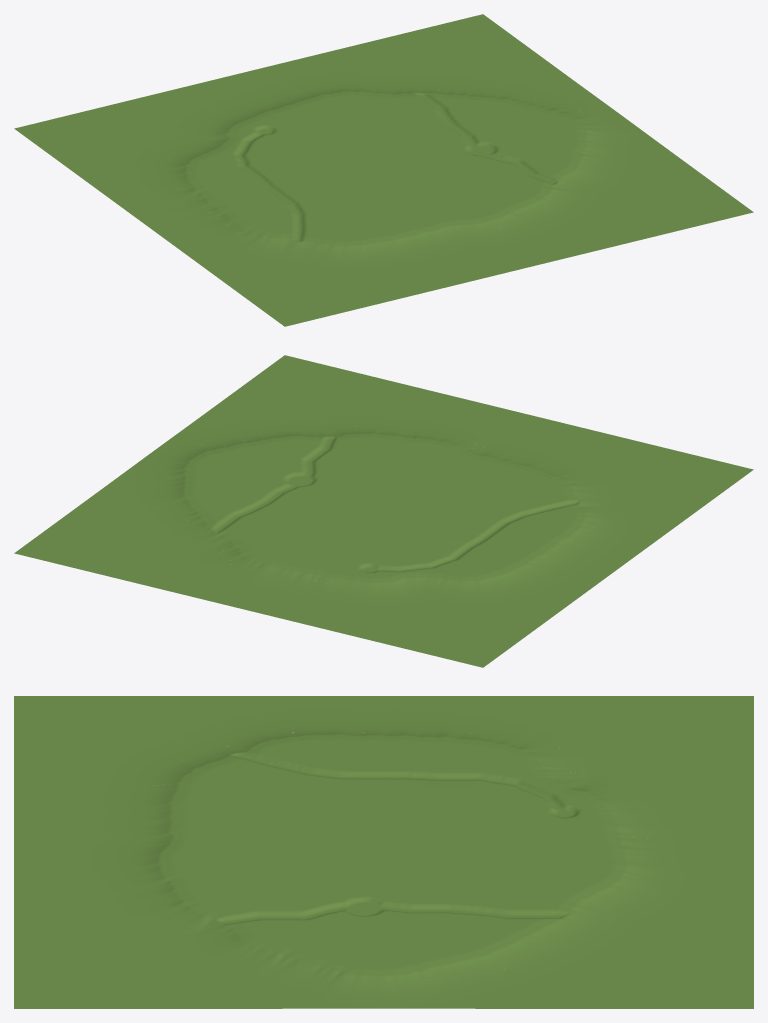
The model's file is terrain.glb.
3 renders of one model, top to bottom at view 1: azimuth 30°, elevation 25°; view 2: azimuth 150°, elevation 25°; view 3: azimuth 270°, elevation 25°, orthographic. The views are drawn at different scales.
Parts seen in each view (by area): view 1: Ground_2_1, Ground_2_0, Ground_1_0, Ground_2_2, Ground_1_1, Ground_0_0, Ground_1_2, Ground_0_2, Ground_0_1; view 2: Ground_0_1, Ground_0_0, Ground_1_0, Ground_0_2, Ground_1_1, Ground_2_0, Ground_1_2, Ground_2_2, Ground_2_1; view 3: Ground_1_2, Ground_0_2, Ground_2_2, Ground_1_1, Ground_2_1, Ground_0_1, Ground_0_0, Ground_2_0, Ground_1_0.
Boxes of the visible parts, x1,y1,x2,y2 form: Ground_2_1: [351, 180, 597, 288]; Ground_2_0: [195, 218, 440, 326]; Ground_1_0: [104, 152, 350, 260]; Ground_2_2: [508, 146, 753, 250]; Ground_1_1: [261, 114, 506, 217]; Ground_0_0: [14, 90, 259, 194]; Ground_1_2: [417, 80, 663, 179]; Ground_0_2: [327, 14, 572, 113]; Ground_0_1: [170, 52, 416, 151]; Ground_0_1: [170, 521, 416, 629]; Ground_0_0: [327, 559, 572, 667]; Ground_1_0: [417, 493, 662, 601]; Ground_0_2: [14, 487, 259, 591]; Ground_1_1: [261, 455, 506, 558]; Ground_2_0: [508, 431, 753, 535]; Ground_1_2: [104, 421, 350, 520]; Ground_2_2: [195, 355, 440, 454]; Ground_2_1: [351, 393, 597, 492]; Ground_1_2: [260, 898, 507, 1008]; Ground_0_2: [507, 898, 753, 1008]; Ground_2_2: [14, 898, 260, 1008]; Ground_1_1: [260, 794, 507, 899]; Ground_2_1: [14, 794, 260, 904]; Ground_0_1: [507, 794, 753, 904]; Ground_0_0: [507, 696, 753, 800]; Ground_2_0: [14, 696, 260, 800]; Ground_1_0: [260, 696, 507, 794].
Bounding box in the file's own units: 450 × 4.15 × 450.
